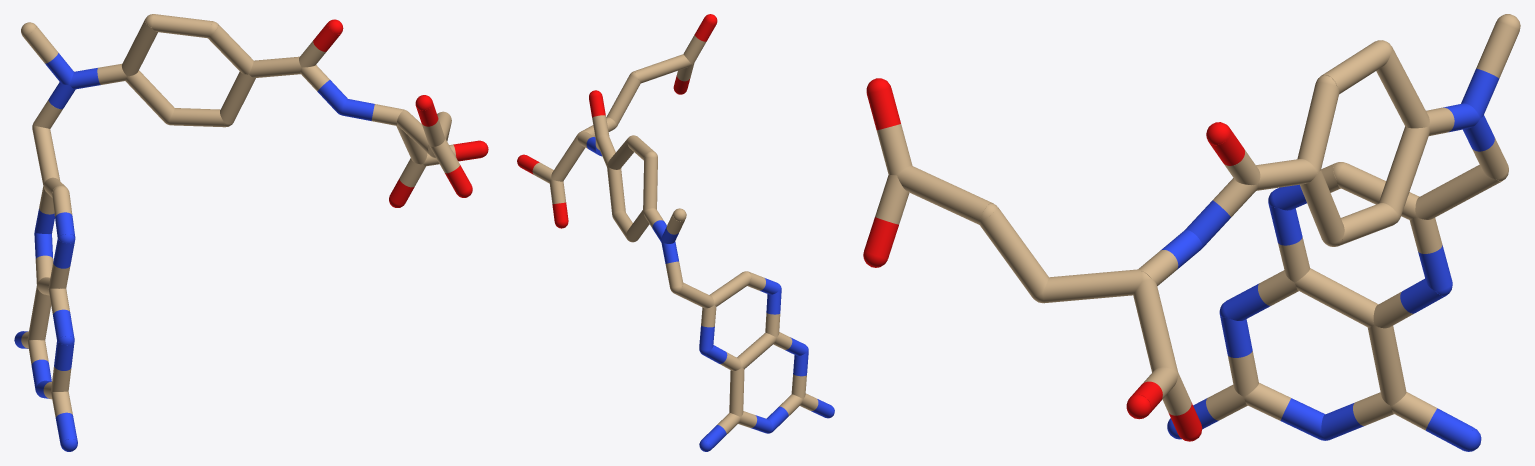
Rendered from MTXRing.dae.
3 renders of one model, left to right at view 1: azimuth 30°, elevation 25°; view 2: azimuth 150°, elevation 25°; view 3: azimuth 270°, elevation 25°, orthographic. The views are drawn at different scales.
Visible parts, largest first — view 1: subnode_66, subnode_68, subnode_52, subnode_63, subnode_67, subnode_64, subnode_69, subnode_65, subnode_45, subnode_77, subnode_60, subnode_86 (+11 smaller); view 2: subnode_83, subnode_67, subnode_82, subnode_45, subnode_76, subnode_64, subnode_51, subnode_48, subnode_52, subnode_63, subnode_68, subnode_57 (+5 smaller); view 3: subnode_77, subnode_82, subnode_83, subnode_76, subnode_68, subnode_63, subnode_48, subnode_52, subnode_45, subnode_67, subnode_64, subnode_66 (+38 smaller).
Boxes of the visible parts, x1,y1,x2,y2 form: subnode_66: [152, 14, 212, 38]; subnode_68: [125, 70, 174, 122]; subnode_52: [32, 126, 60, 185]; subnode_63: [208, 24, 253, 74]; subnode_67: [122, 19, 157, 76]; subnode_64: [220, 71, 255, 123]; subnode_69: [169, 108, 225, 127]; subnode_65: [249, 56, 301, 77]; subnode_45: [27, 286, 51, 340]; subnode_77: [397, 110, 430, 155]; subnode_60: [23, 26, 58, 63]; subnode_86: [429, 138, 459, 173]; subnode_83: [634, 54, 691, 83]; subnode_67: [643, 157, 657, 211]; subnode_82: [606, 75, 640, 126]; subnode_45: [729, 367, 744, 417]; subnode_76: [551, 135, 585, 181]; subnode_64: [607, 166, 625, 215]; subnode_51: [709, 272, 750, 306]; subnode_48: [737, 332, 776, 368]; subnode_52: [675, 282, 714, 308]; subnode_63: [607, 139, 633, 169]; subnode_68: [626, 210, 649, 241]; subnode_57: [665, 261, 683, 288]; subnode_77: [1042, 269, 1142, 303]; subnode_82: [979, 207, 1048, 297]; subnode_83: [897, 165, 993, 224]; subnode_76: [1133, 279, 1178, 373]; subnode_68: [1378, 126, 1429, 217]; subnode_63: [1297, 82, 1339, 171]; subnode_48: [1295, 268, 1378, 327]; subnode_52: [1415, 164, 1502, 219]; subnode_45: [1367, 325, 1406, 406]; subnode_67: [1376, 47, 1429, 128]; subnode_64: [1300, 170, 1344, 243]; subnode_66: [1321, 41, 1390, 94].
Bounding box in the file's own units: 10.81 × 9.29 × 10.3.
